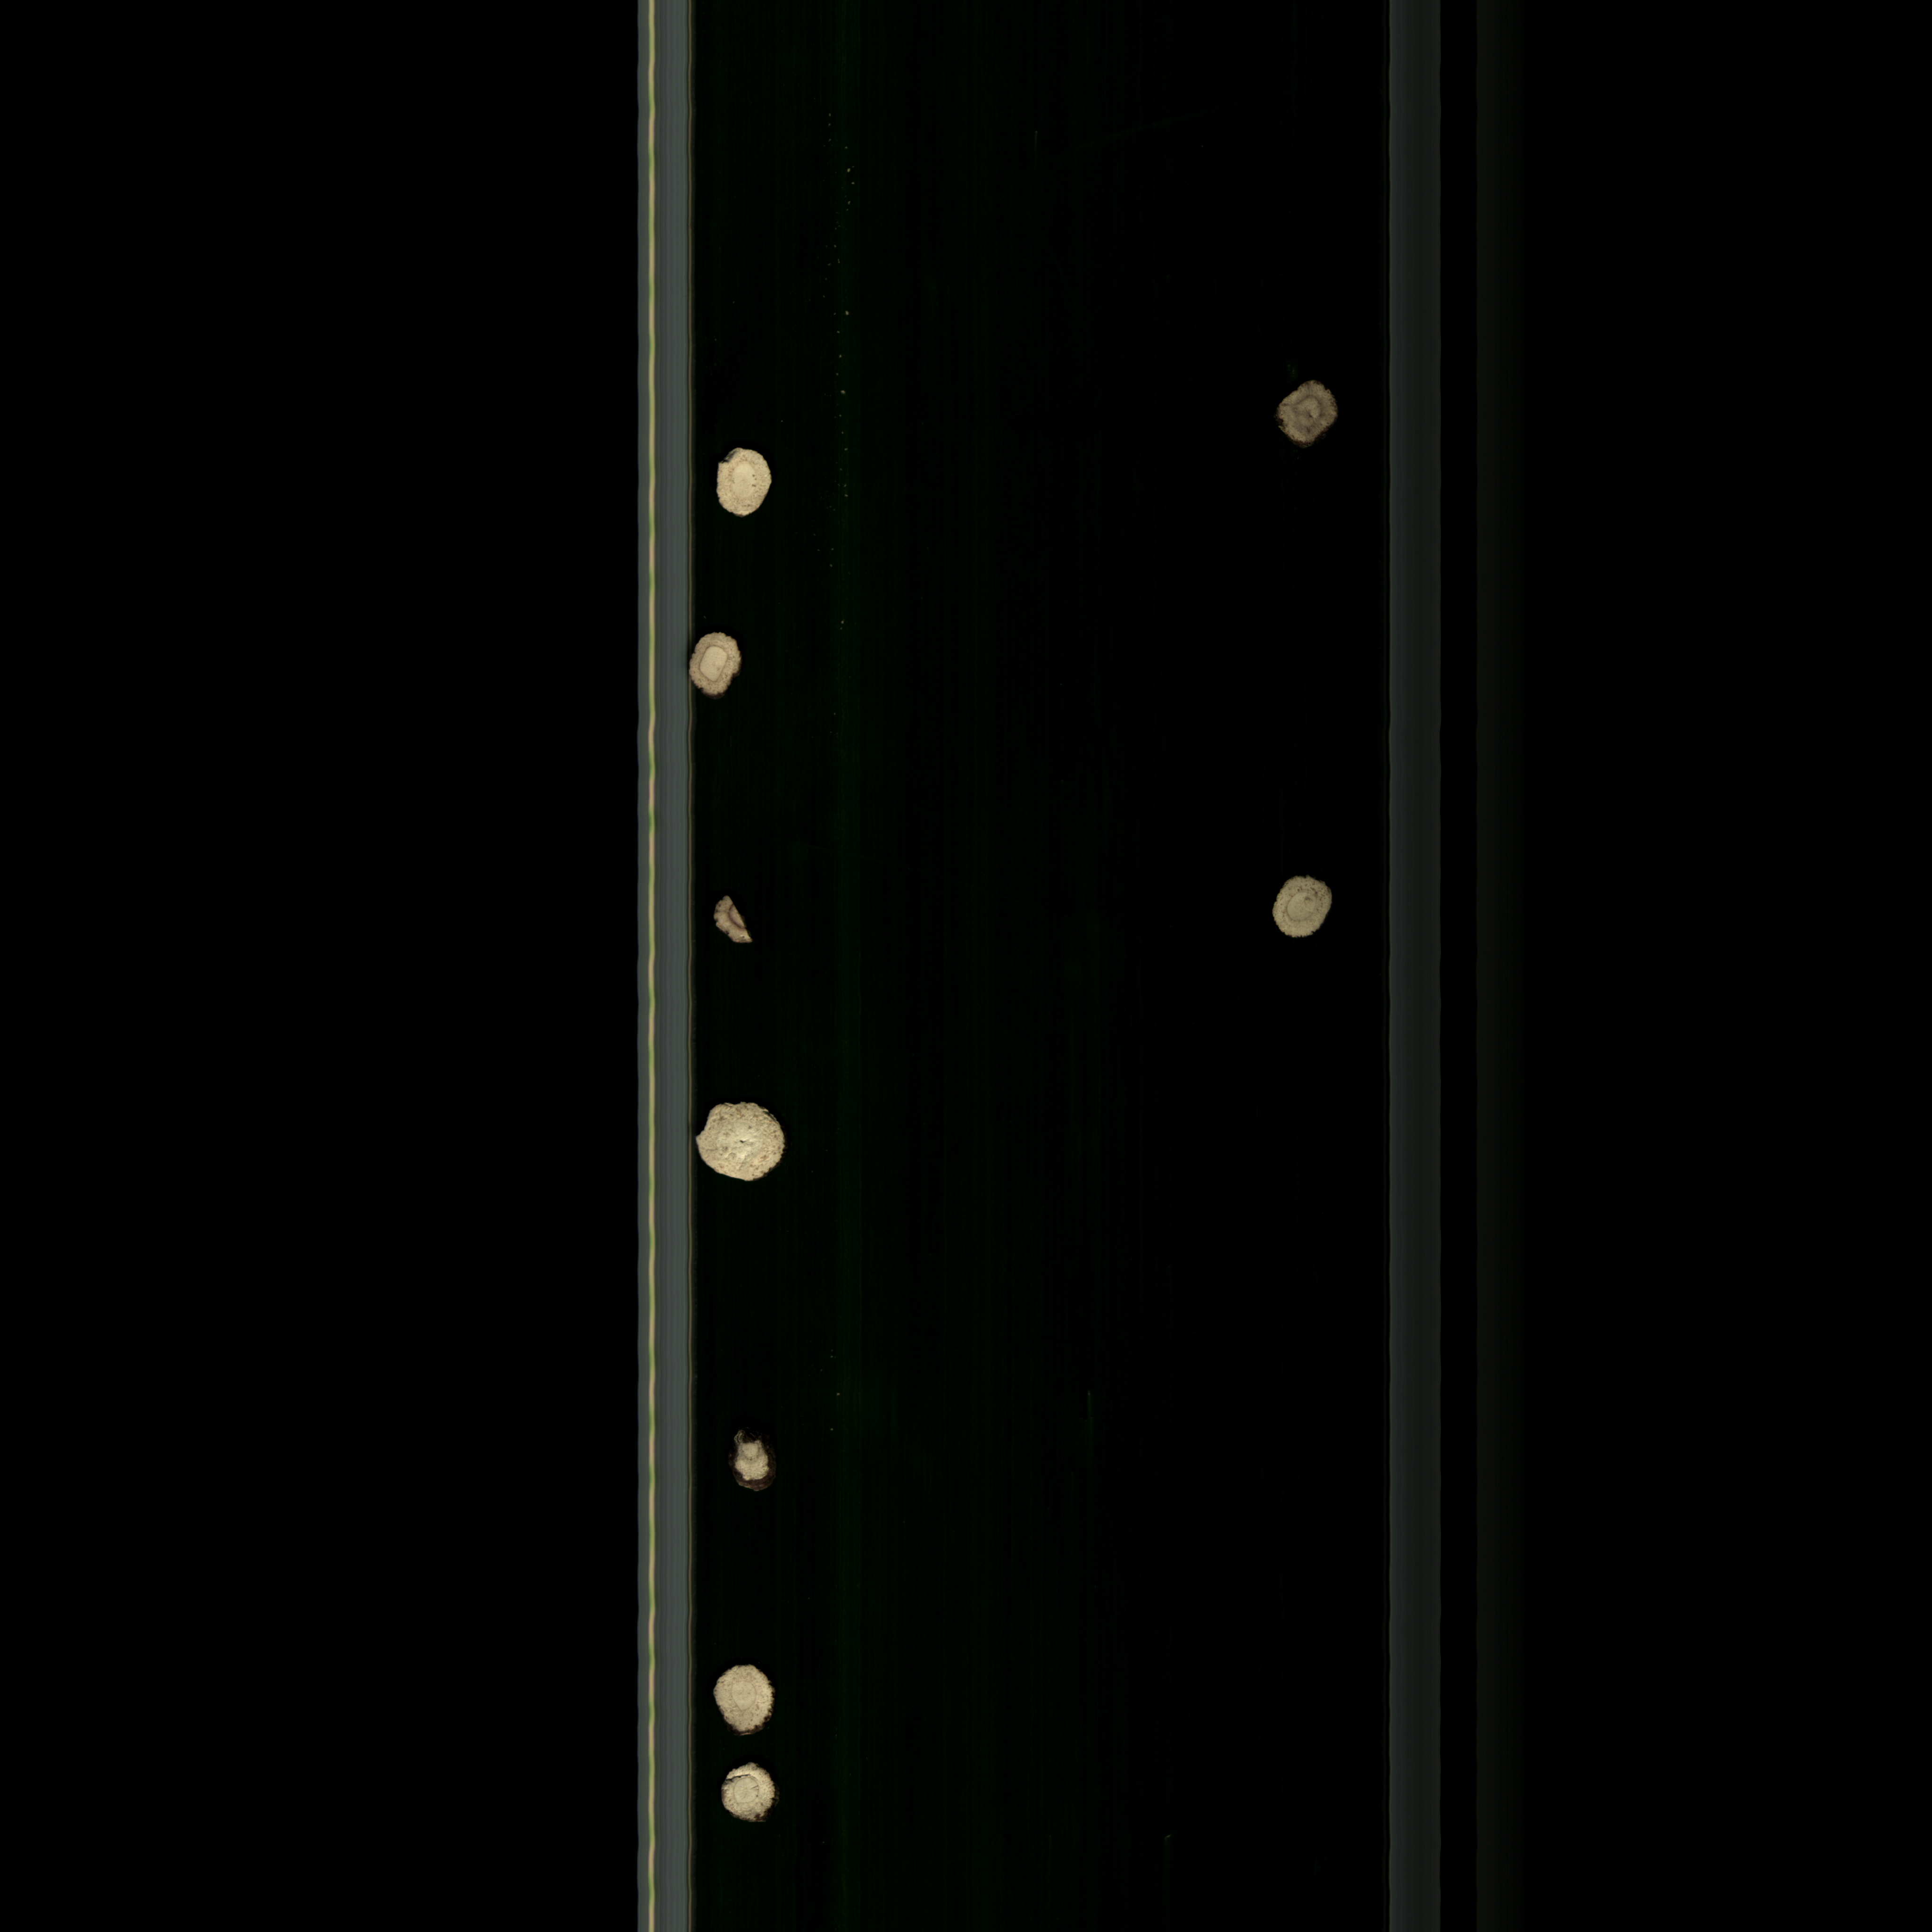dreg: (729, 1421, 791, 1500), (708, 886, 761, 955)
hole: (692, 1093, 798, 1184), (715, 1753, 800, 1829)
moldy: (685, 625, 763, 713), (1277, 373, 1346, 458)
